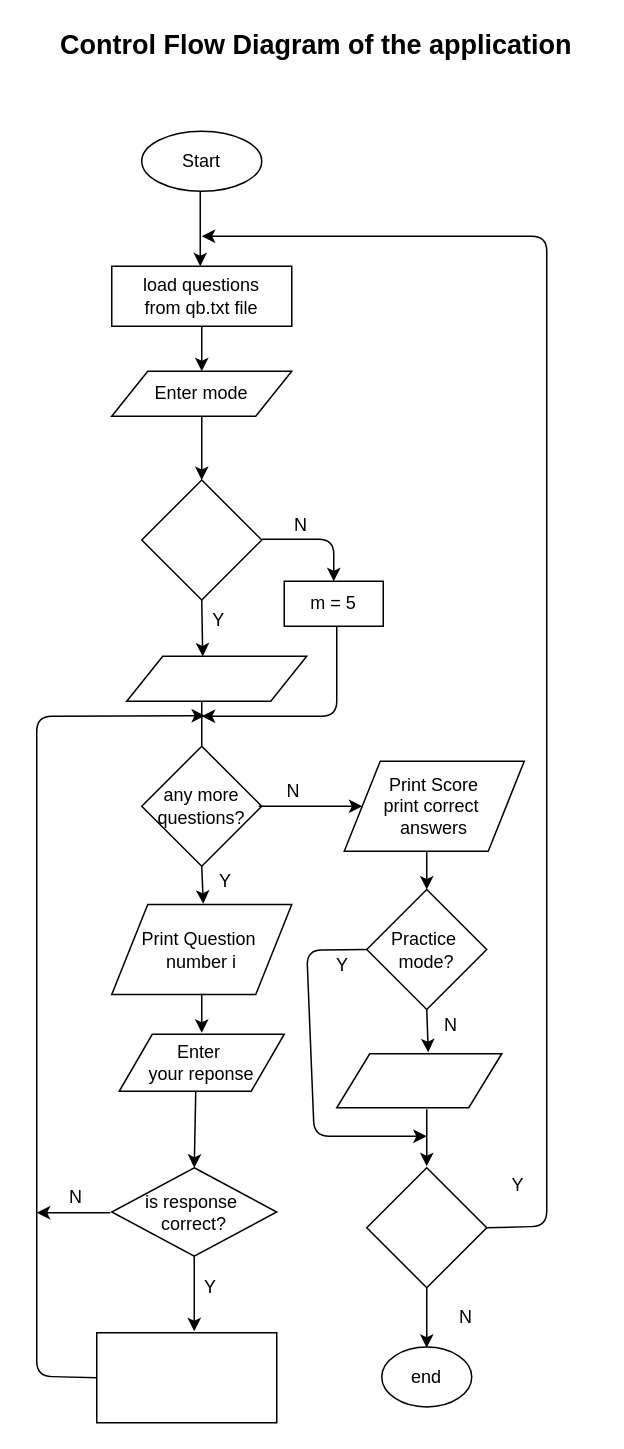
Image size: 624x1449. Some labels were removed from this diagram. The shapes that lost their labels are listed below. From the top down, each one's centre as x and y in pixels, then its label:
the point at 201,539: Mode = p?
the point at 216,678: Enter no. of questions (m)
the point at 418,1080: Print Score board
the point at 426,1227: Continue to play?
the point at 186,1377: increase score by 1
